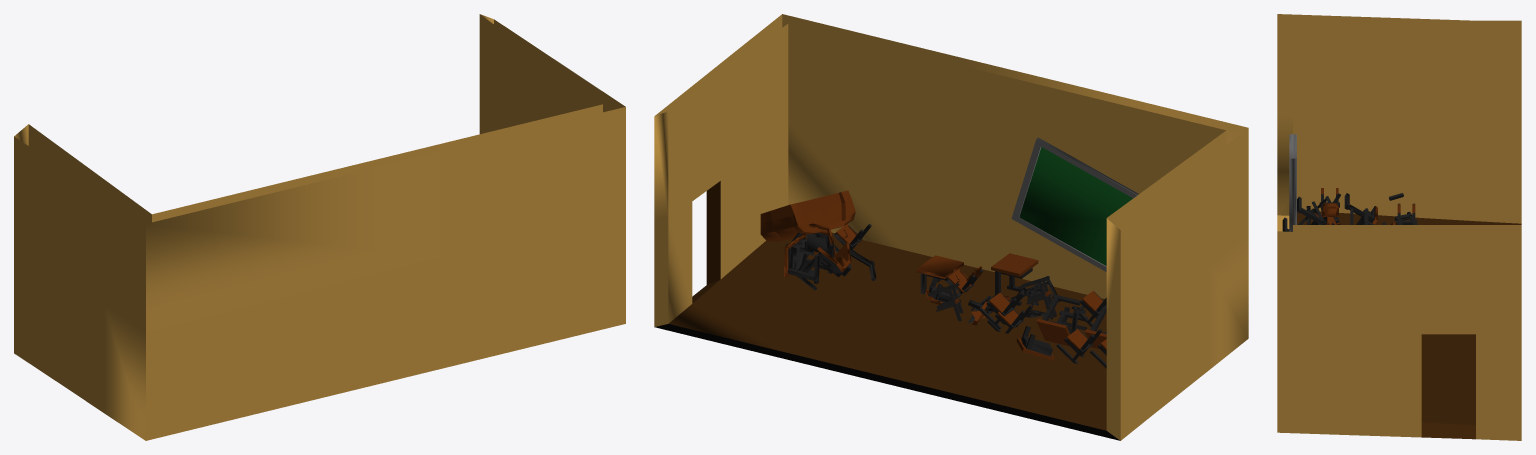
Rendered from school1_2.FBX.
3 views of the same model, side by side, from view 1: azimuth 30°, elevation 25°; view 2: azimuth 150°, elevation 25°; view 3: azimuth 270°, elevation 25° (orthographic). The views are drawn at different scales.
Parts seen in each view (by area): view 1: Box001; view 2: Box001; view 3: Box001.
Part boxes in pixels (x1=…): Box001: x1=14, y1=14, x2=625, y2=440; Box001: x1=654, y1=14, x2=1248, y2=440; Box001: x1=1277, y1=14, x2=1521, y2=440.
Size of the model in its own units: 1025 by 461 by 487.
